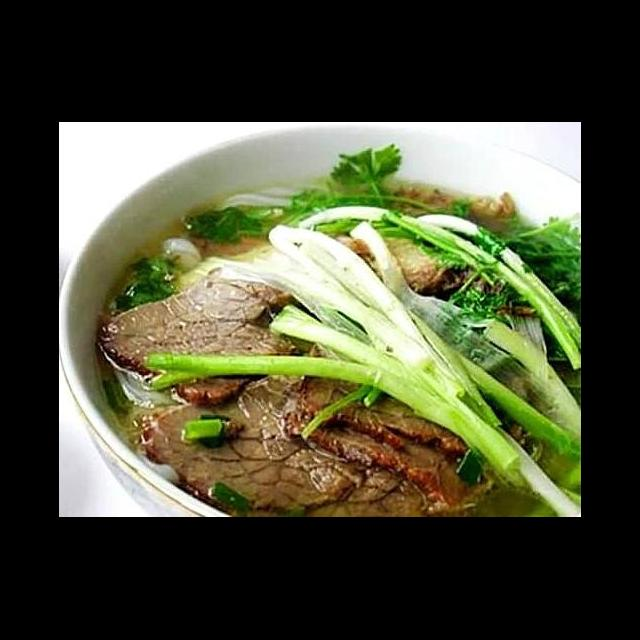thit bo: (132, 388, 496, 518), (94, 268, 314, 412), (289, 340, 474, 458), (278, 401, 471, 508)
